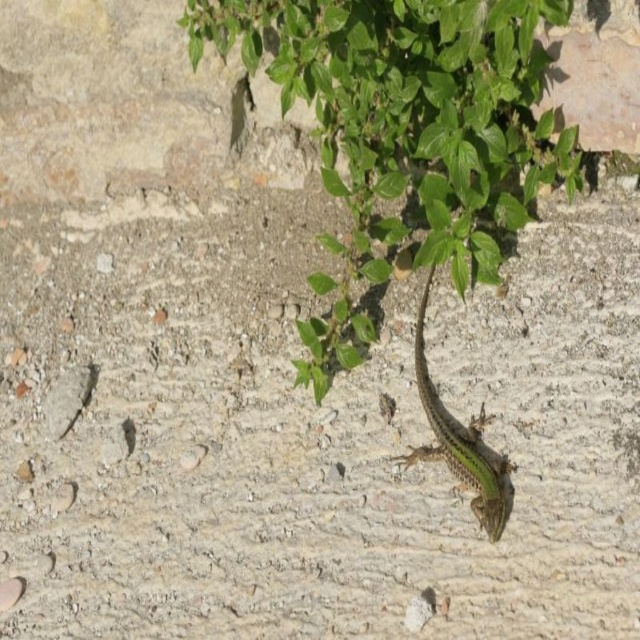Lizard: (390, 255, 510, 549)
